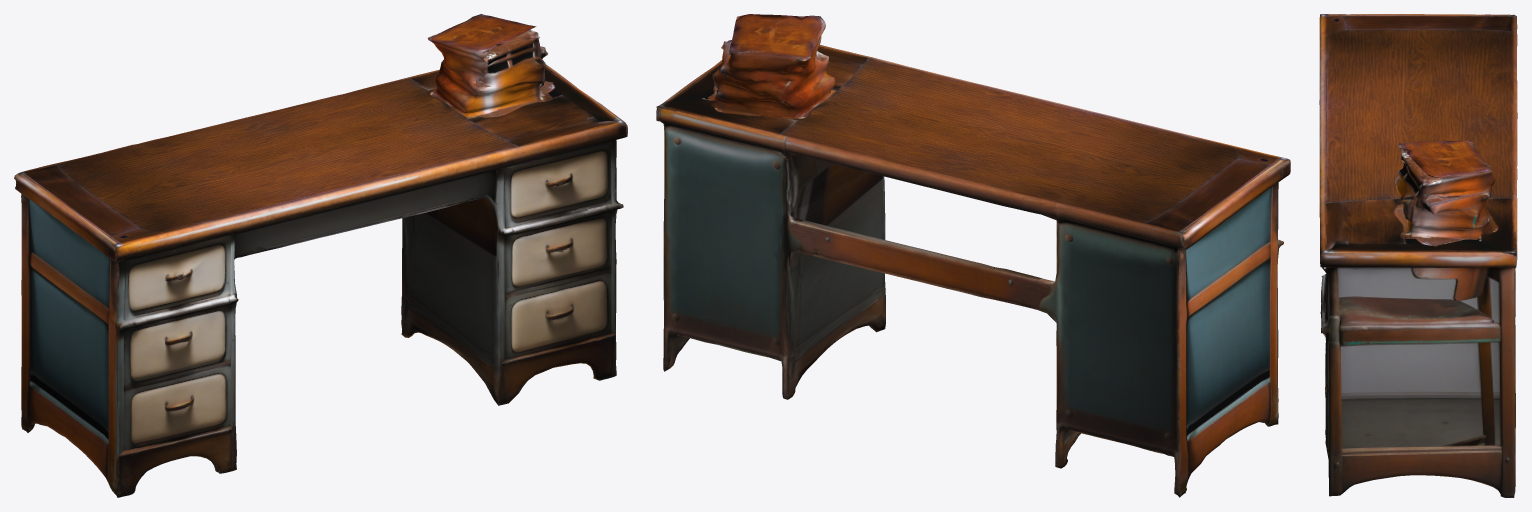
File: Meshy_AI_old_school_desk_0518214510_texture.fbx
The picture shows the model from 3 angles, left to right: view 1: azimuth 30°, elevation 25°; view 2: azimuth 150°, elevation 25°; view 3: azimuth 270°, elevation 25°; orthographic projection. The views are drawn at different scales.
Visible parts, largest first — view 1: Mesh_0.004; view 2: Mesh_0.004; view 3: Mesh_0.004.
Boxes of the visible parts, left/top/right/bottom form: Mesh_0.004: left=14, top=14, right=627, bottom=497; Mesh_0.004: left=656, top=14, right=1290, bottom=497; Mesh_0.004: left=1319, top=14, right=1517, bottom=497.
Bounding box in the file's own units: 201 × 121 × 69.48.
1 material, 1 textured.
